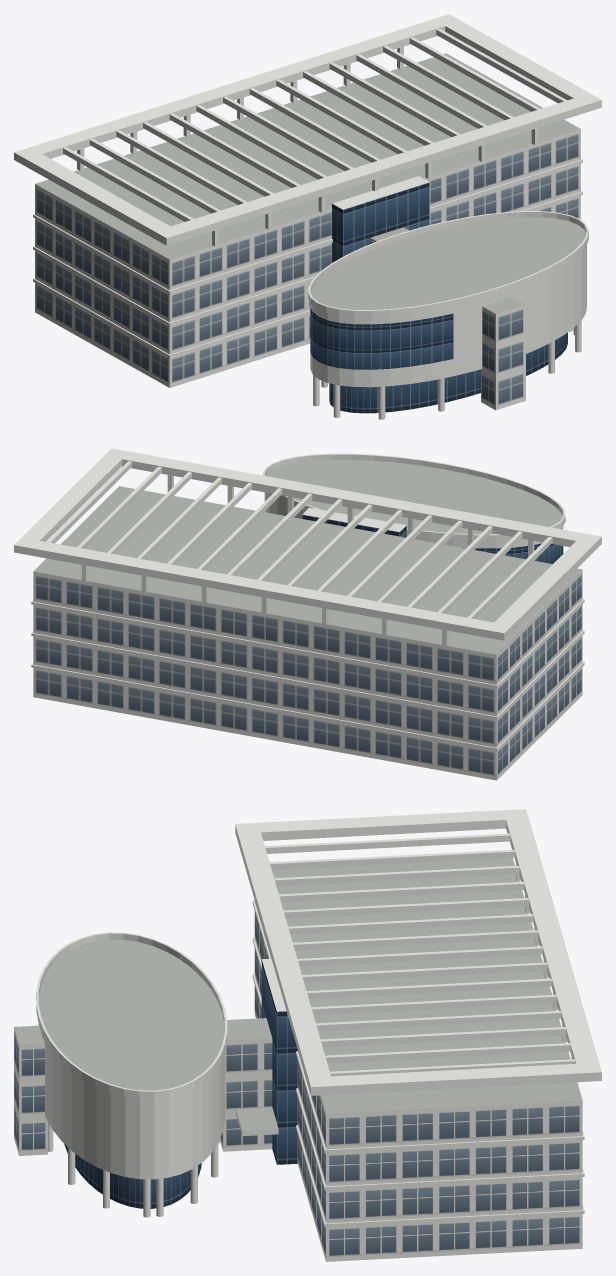
Rendered from leidingxueyuan.glb.
3 views of the same model, one above another, from view 1: azimuth 30°, elevation 25°; view 2: azimuth 150°, elevation 25°; view 3: azimuth 270°, elevation 25° (orthographic). The views are drawn at different scales.
Parts seen in each view (by area): view 1: 雷丁学院; view 2: 雷丁学院; view 3: 雷丁学院.
Boxes of the visible parts, x1=… form: 雷丁学院: x1=14, y1=14, x2=601, y2=419; 雷丁学院: x1=14, y1=448, x2=601, y2=780; 雷丁学院: x1=14, y1=809, x2=601, y2=1261.
Bounding box in the file's own units: 68.51 × 21 × 61.19.
Materials: 4 (2 with a texture image).
